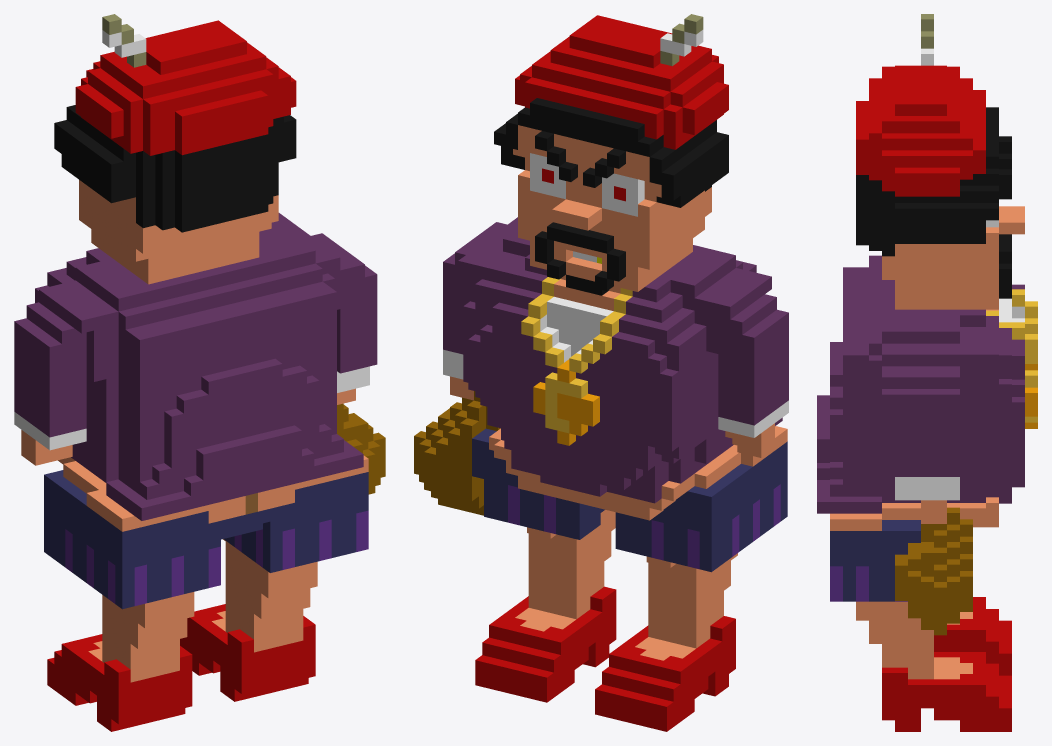
The model's file is player.obj.
3 renders of one model, left to right at view 1: azimuth 30°, elevation 25°; view 2: azimuth 150°, elevation 25°; view 3: azimuth 270°, elevation 25°, orthographic. The views are drawn at different scales.
Bounding box in the file's own units: 29 × 54 × 17.
